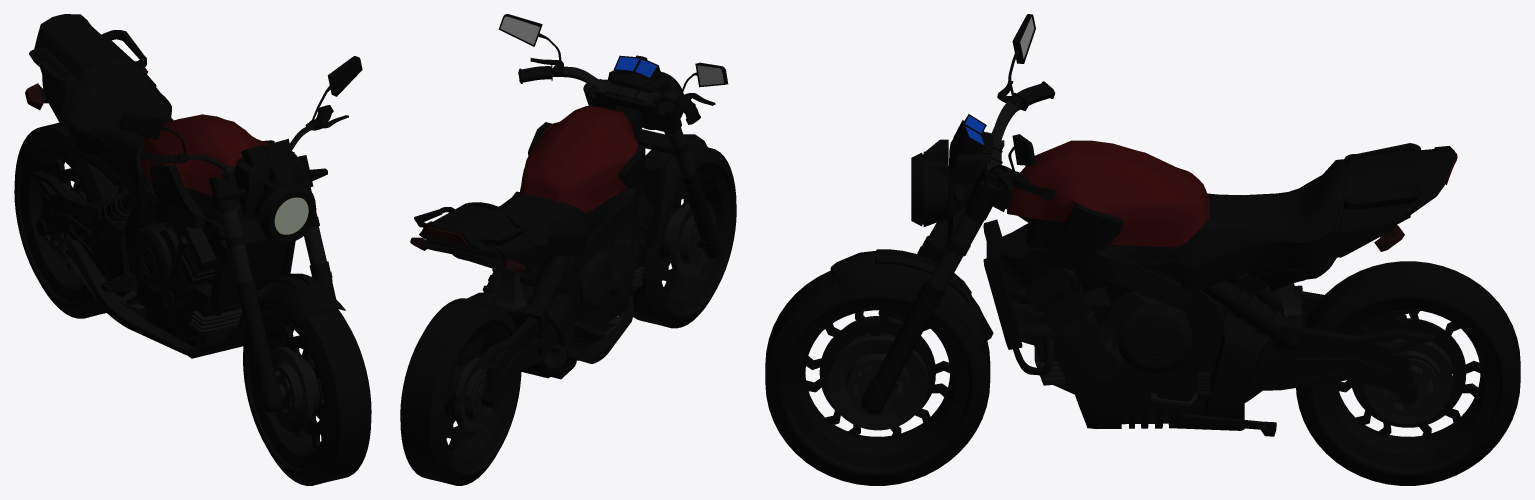
The model's file is Honda CB650R .obj.
3 renders of one model, left to right at view 1: azimuth 30°, elevation 25°; view 2: azimuth 150°, elevation 25°; view 3: azimuth 270°, elevation 25°, orthographic. The views are drawn at different scales.
Visible parts, largest first — view 1: obj1; view 2: obj1; view 3: obj1.
Part boxes in pixels (left/top/right/bottom): obj1: left=14, top=14, right=371, bottom=485; obj1: left=400, top=14, right=736, bottom=485; obj1: left=765, top=14, right=1520, bottom=485.
Bounding box in the file's own units: 116 × 157 × 269.
